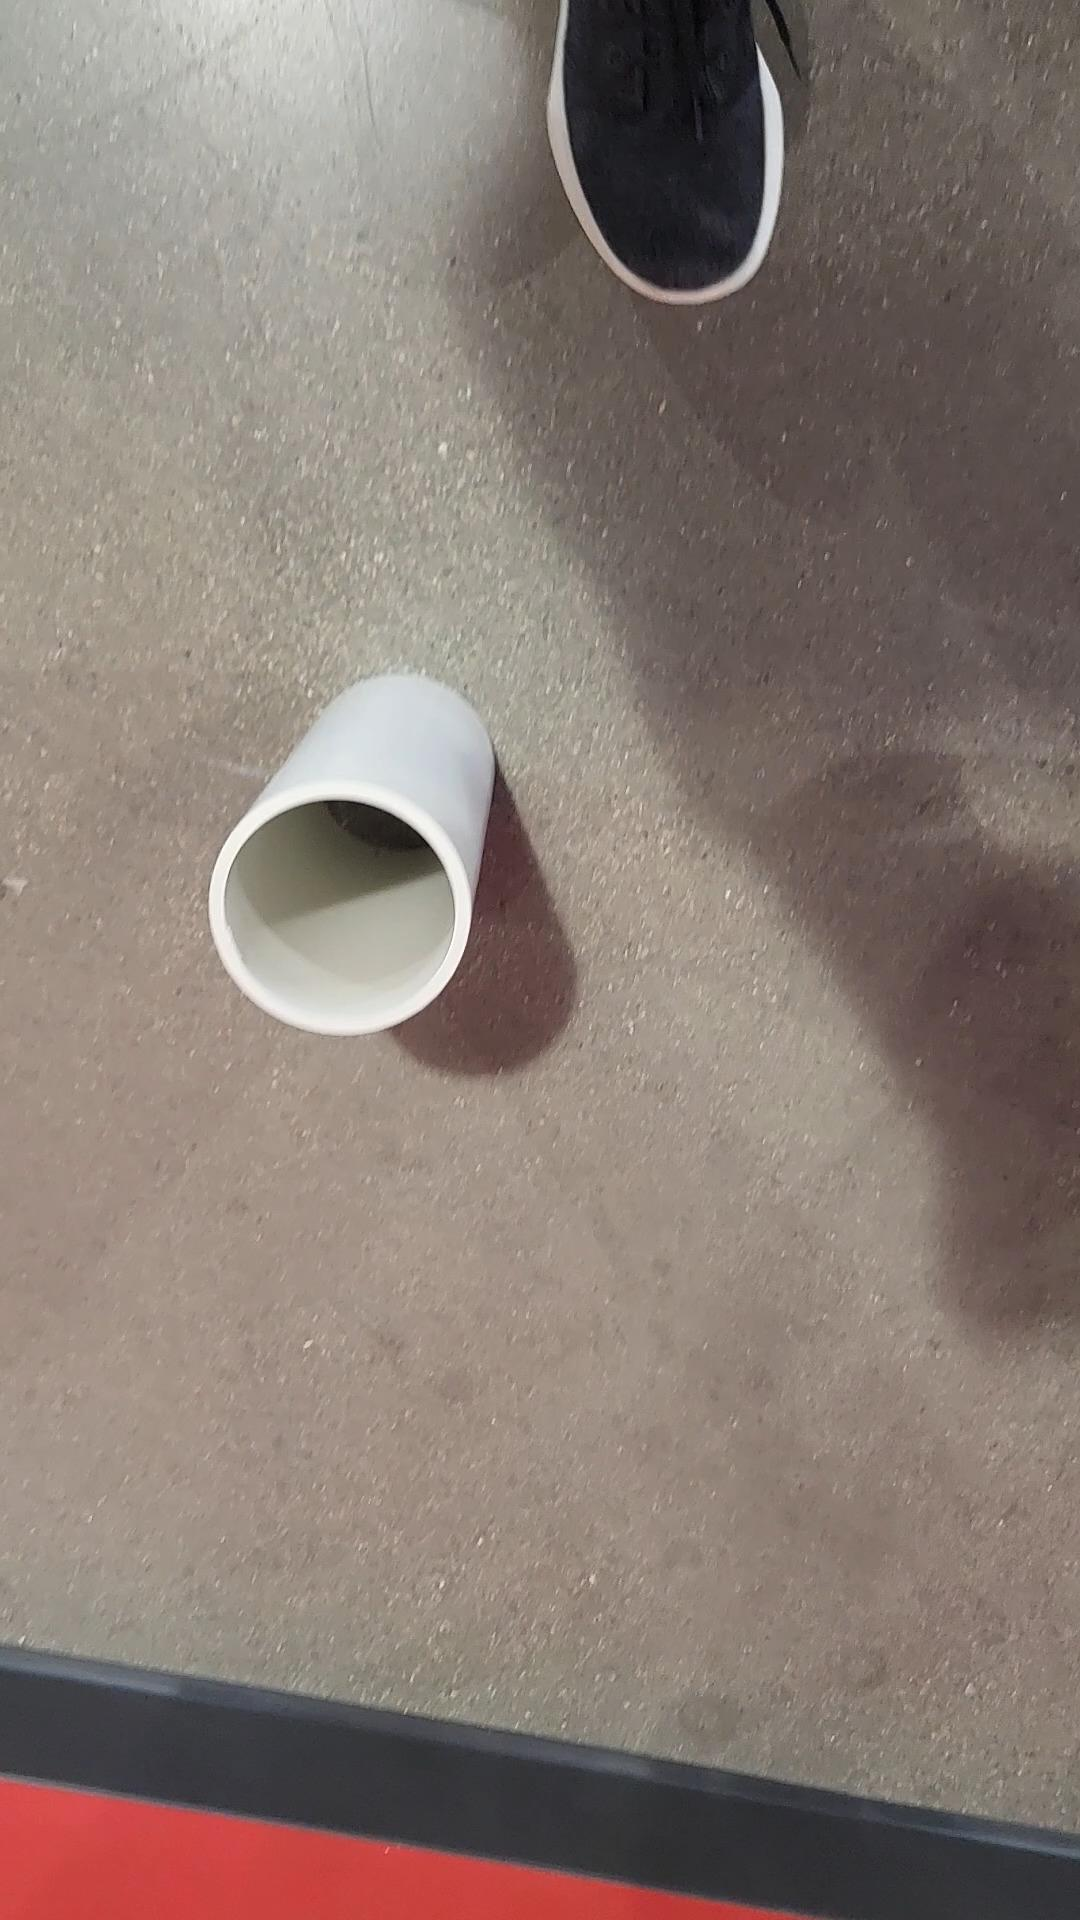coral: (210, 672, 498, 1038)
